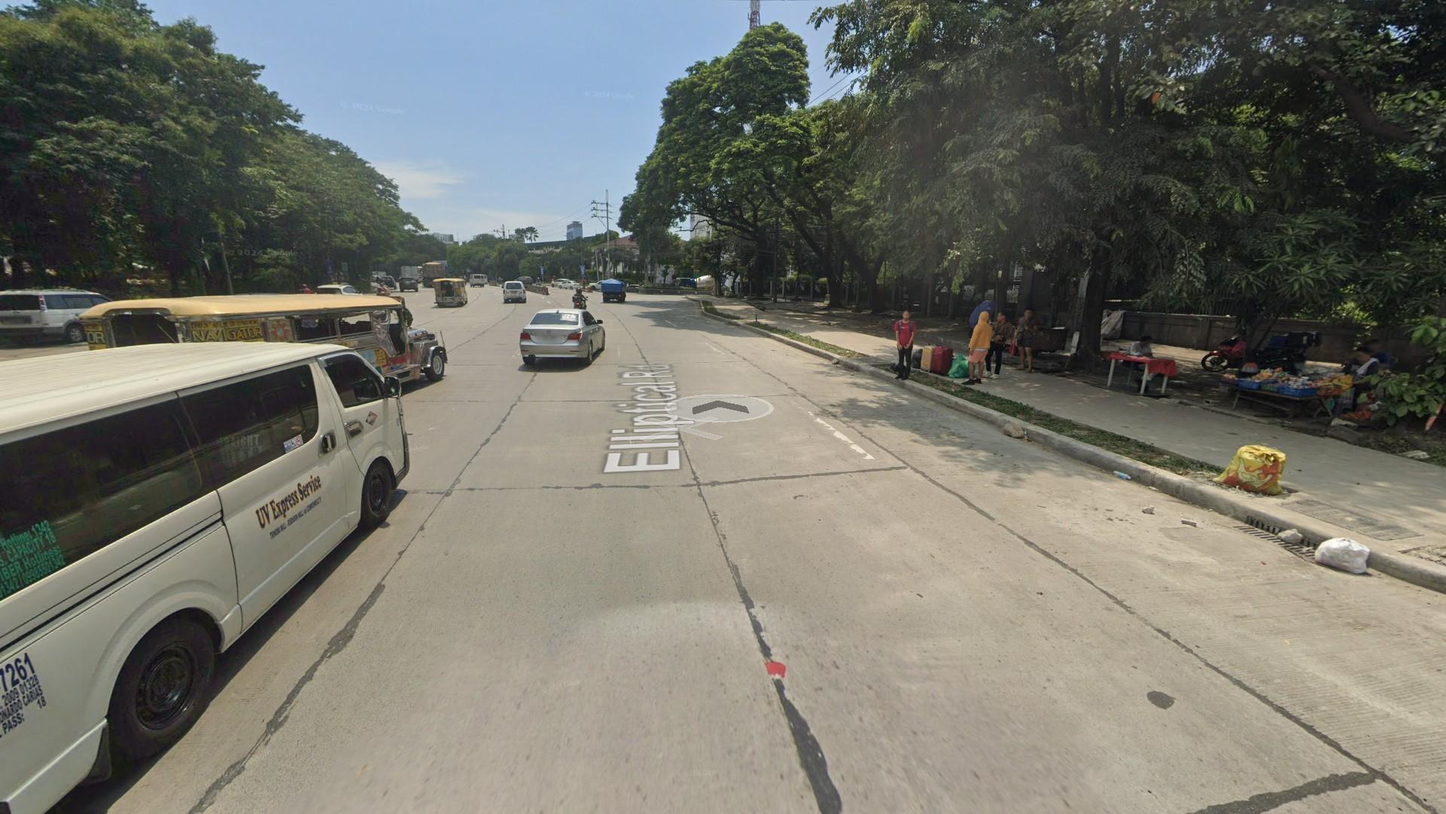cyclist: (576, 276, 586, 292)
pedestrian: (1337, 346, 1381, 414), (960, 310, 993, 387), (979, 310, 1014, 379), (1360, 337, 1392, 405), (1011, 307, 1040, 374), (1125, 334, 1154, 394), (894, 309, 916, 381)
